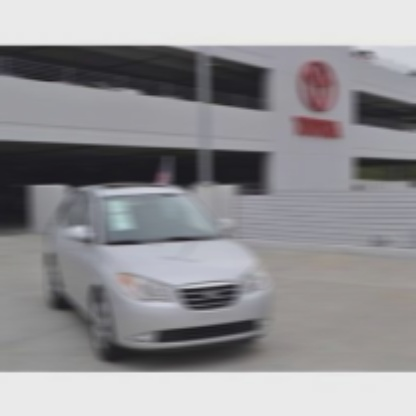Vehicle: (44, 177, 275, 365)
